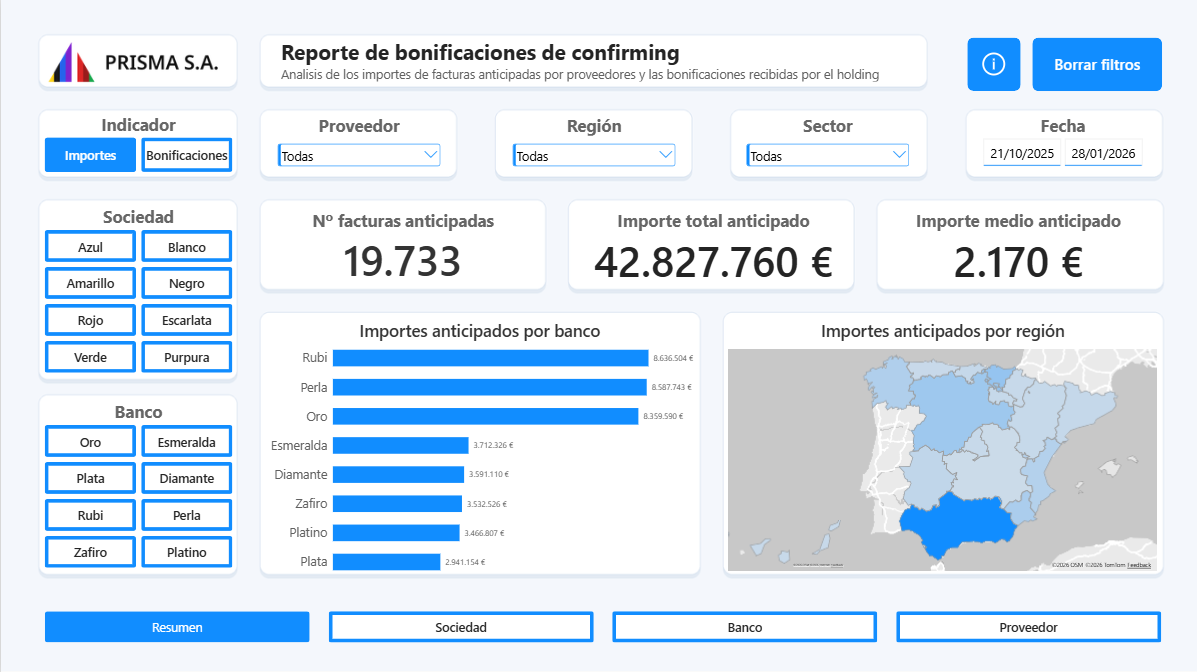

The page's visual inventory and layout, read from the dashboard file:
{"tool":"powerbi","page":{"name":"Resumen","canvas":[1920,1080],"ordinal":0},"visuals":[{"type":"cardVisual","fields":{"Data":["Registro_Bonificaciones.Sel_Importes"]},"box":[912,320,456,144],"z":0},{"type":"cardVisual","title":"Nº facturas anticipadas","fields":{"Data":["CountNonNull(Historial Bonificaciones de Confirming con formulas.Nº Factura)"]},"box":[416,320.2,454.6,143.6],"z":1000},{"type":"azureMap","fields":{"Category":["CCAA_Proveedor.Comunidad Autónoma"]},"box":[1156,496,702,418],"z":1000,"group":"g1"},{"type":"azureMap","fields":{"Category":["CCAA_Proveedor.Comunidad Autónoma"]},"box":[1156,818,204,92],"z":1500,"group":"g1"},{"type":"barChart","fields":{"Category":["Banco.Nombre_Corto_Banco"],"Y":["Registro_Bonificaciones.Sel_Importes"]},"box":[415,495,700,417.5],"z":2000},{"type":"shape","title":"Reporte de bonificaciones de confirming","box":[448,60,1030,80],"z":3000},{"type":"cardVisual","fields":{"Data":["Registro_Bonificaciones.Promedio_Dinamico"]},"box":[1400,320,456,144],"z":4000},{"type":"actionButton","box":[1650,60,208,86],"z":5000},{"type":"image","box":[60.5,60,320,80],"z":6000},{"type":"advancedSlicerVisual","title":"Sociedad","fields":{"Values":["Sociedad.Nombre_Corto_Sociedad"]},"box":[70.5,328,300,270],"z":7000},{"type":"pageNavigator","box":[70,978,1786,50],"z":8000},{"type":"advancedSlicerVisual","title":"Banco","fields":{"Values":["Banco.Nombre_Corto_Banco"]},"box":[70.5,640,300,270],"z":9000},{"type":"slicer","title":"Proveedor","fields":{"Values":["proveedores.Nombre_Proveedor"]},"box":[438,182,270,100],"z":10000},{"type":"slicer","title":"Región","fields":{"Values":["CCAA_Proveedor.Comunidad Autónoma"]},"box":[814,182,270,100],"z":11000},{"type":"advancedSlicerVisual","title":"Indicador","fields":{"Values":["Selector.Selector"]},"box":[70.5,180,300,96],"z":12000},{"type":"slicer","title":"Fecha","fields":{"Values":["registro_bonificaciones.F. Anticipo"]},"box":[1564,182,270,100],"z":13000},{"type":"slicer","title":"Sector","fields":{"Values":["Proveedor.Sector"]},"box":[1188,182,270,100],"z":14000},{"type":"shape","box":[1572.1,250.7,123.6,29.3],"z":15000},{"type":"shape","box":[1702.1,250.7,123.6,29.3],"z":16000},{"type":"actionButton","box":[1545.6,60,85.6,85.6],"z":17000},{"type":"group","id":"g1","title":"Mapa","box":[1156,496,702,418],"z":18000}]}

Visuals, with their boxes in screenshot pixels (x1, y1, x2, y2), scaled from the page's 1920x1080 canvas onto the 1197x672 screenshot:
cardVisual - Registro_Bonificaciones.Sel_Importes: 569/199/853/289
"Nº facturas anticipadas" cardVisual: 259/199/543/289
azureMap - CCAA_Proveedor.Comunidad Autónoma: 721/309/1158/569
azureMap - CCAA_Proveedor.Comunidad Autónoma: 721/509/848/566
barChart - Banco.Nombre_Corto_Banco x Registro_Bonificaciones.Sel_Importes: 259/308/695/568
"Reporte de bonificaciones de confirming" shape: 279/37/921/87
cardVisual - Registro_Bonificaciones.Promedio_Dinamico: 873/199/1157/289
actionButton: 1029/37/1158/91
image: 38/37/237/87
"Sociedad" advancedSlicerVisual: 44/204/231/372
pageNavigator: 44/609/1157/640
"Banco" advancedSlicerVisual: 44/398/231/566
"Proveedor" slicer: 273/113/441/175
"Región" slicer: 507/113/676/175
"Indicador" advancedSlicerVisual: 44/112/231/172
"Fecha" slicer: 975/113/1143/175
"Sector" slicer: 741/113/909/175
shape: 980/156/1057/174
shape: 1061/156/1138/174
actionButton: 964/37/1017/91
"Mapa" group: 721/309/1158/569
